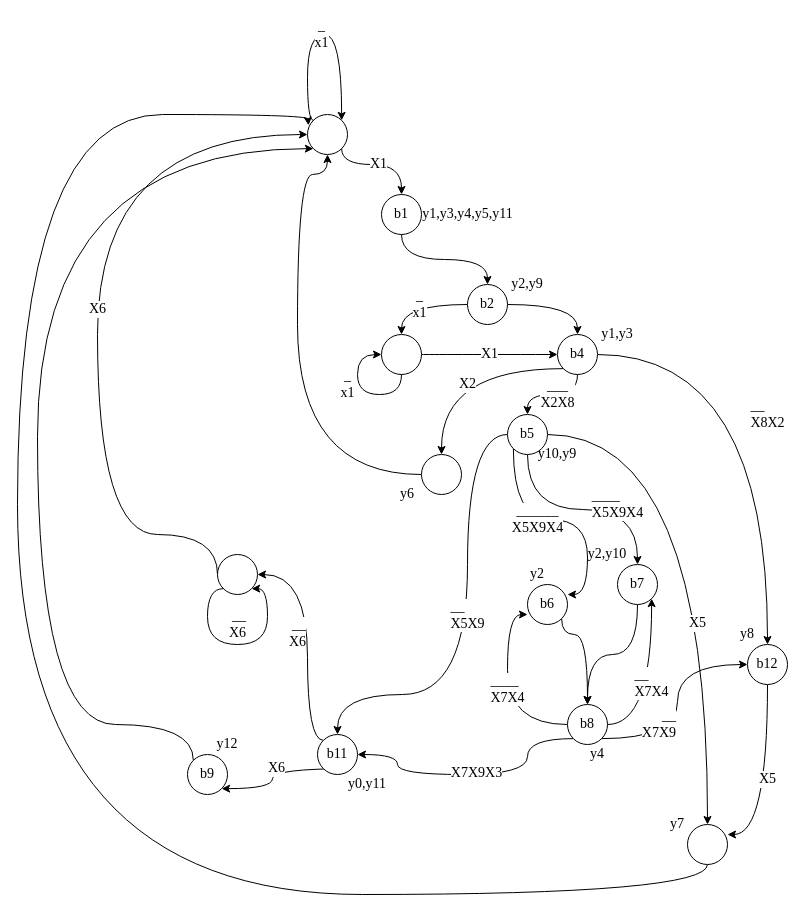
Some shapes in this 805 by 912 pixel diagram are drawn without their labels. Each missing label, with the box of its shape:
b0: (306, 114, 348, 154)
b10: (216, 554, 258, 594)
b13: (686, 824, 728, 864)
b15: (420, 454, 462, 494)
b3: (380, 334, 422, 374)
